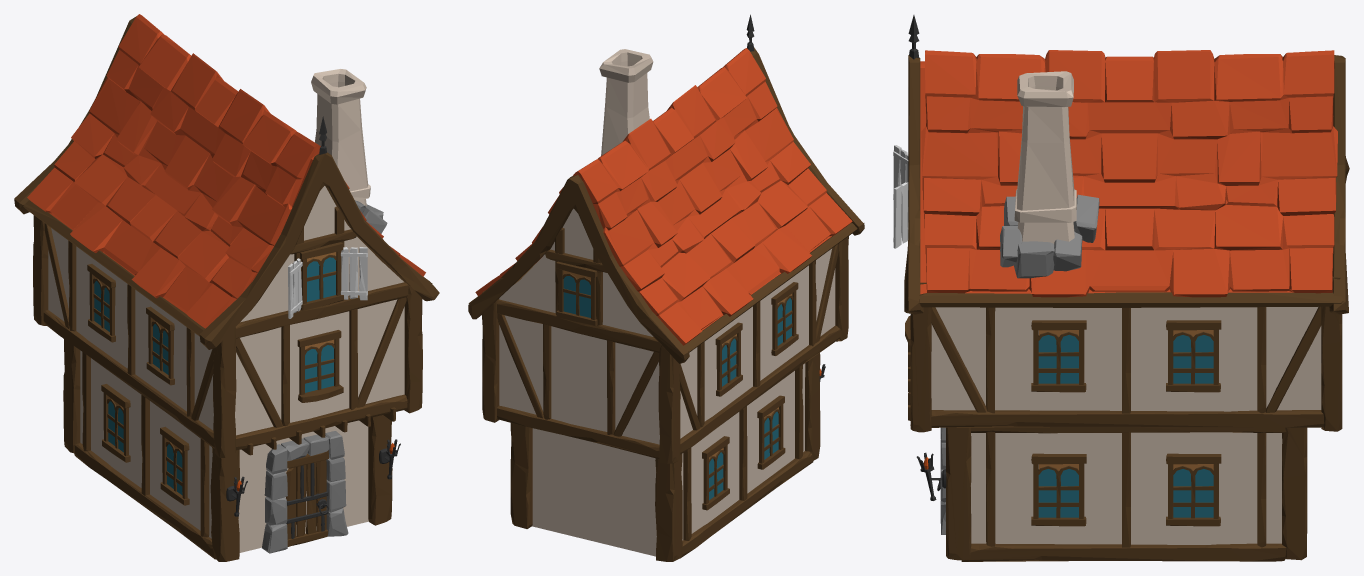
File: SM_house_01.fbx
The picture shows the model from 3 angles, left to right: view 1: azimuth 30°, elevation 25°; view 2: azimuth 150°, elevation 25°; view 3: azimuth 270°, elevation 25°; orthographic projection. The views are drawn at different scales.
Parts seen in each view (by area): view 1: Object32401; view 2: Object32401; view 3: Object32401.
Part boxes in pixels (left/top/right/bottom): Object32401: left=14, top=14, right=439, bottom=561; Object32401: left=468, top=14, right=864, bottom=561; Object32401: left=893, top=15, right=1349, bottom=561.
Size of the model in its own units: 229 by 410 by 338.
